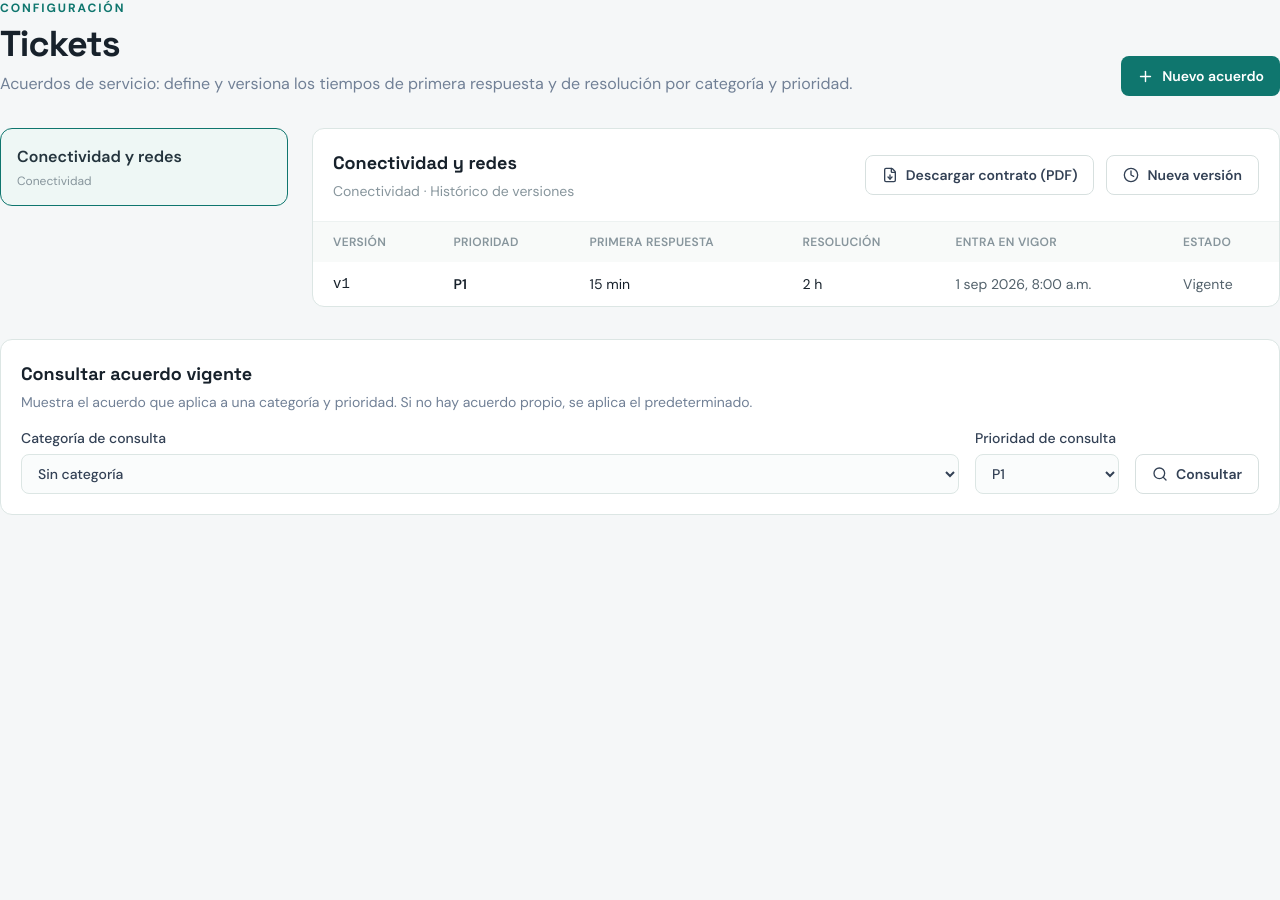
SlaPage: configuración de Tickets (S2-14, COR-05, HU-08.1) › COR-05: el nombre del acuerdo se elige de los tipos de servicio
Expected: the text "v1" is shown, x1=313 y1=262 x2=434 y2=306
Click the button "Nuevo acuerdo" at (1201, 76), box x1=1121 y1=56 x2=1279 y2=96
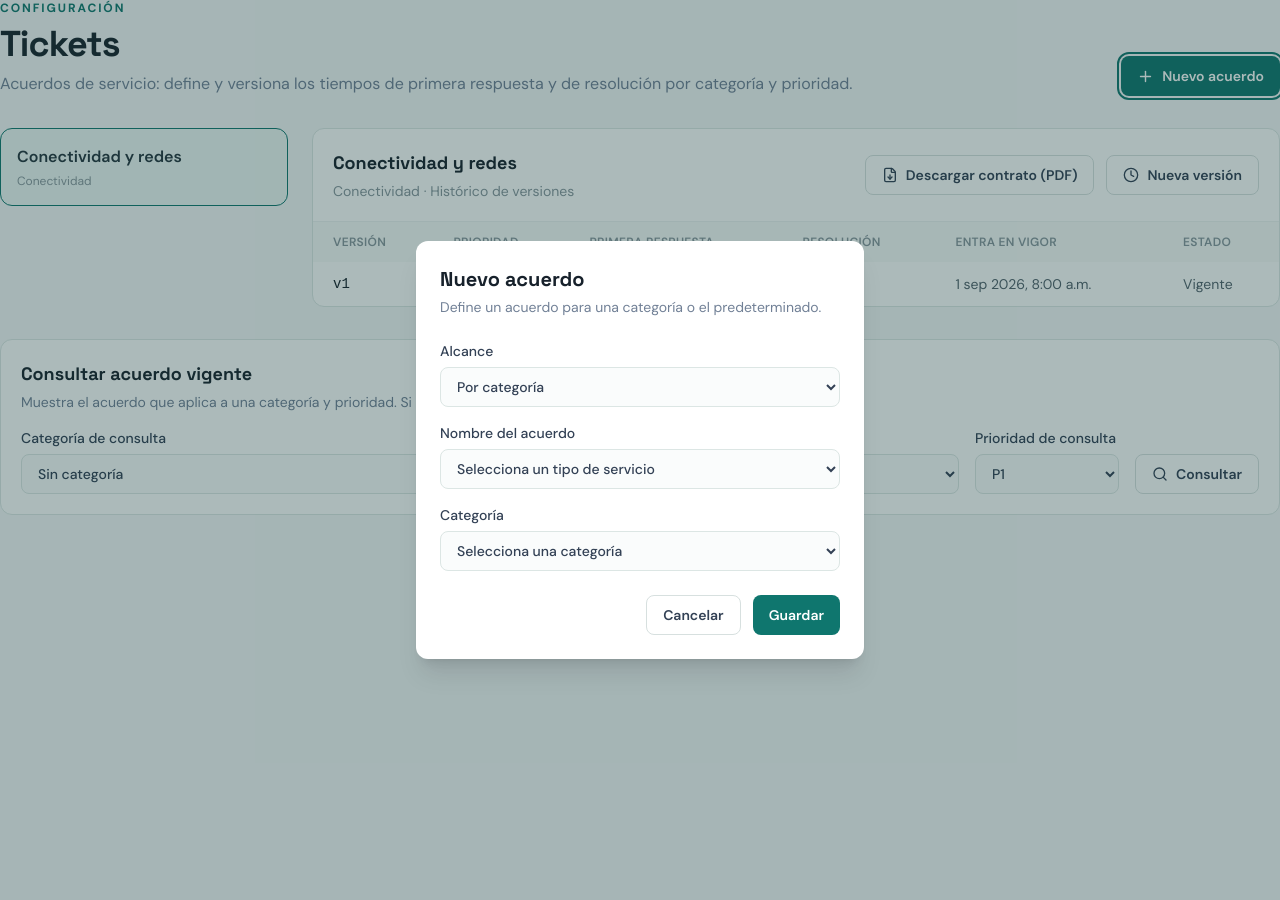
Expected: the dropdown labelled "Nombre del acuerdo" is enabled, x1=440 y1=449 x2=840 y2=489
